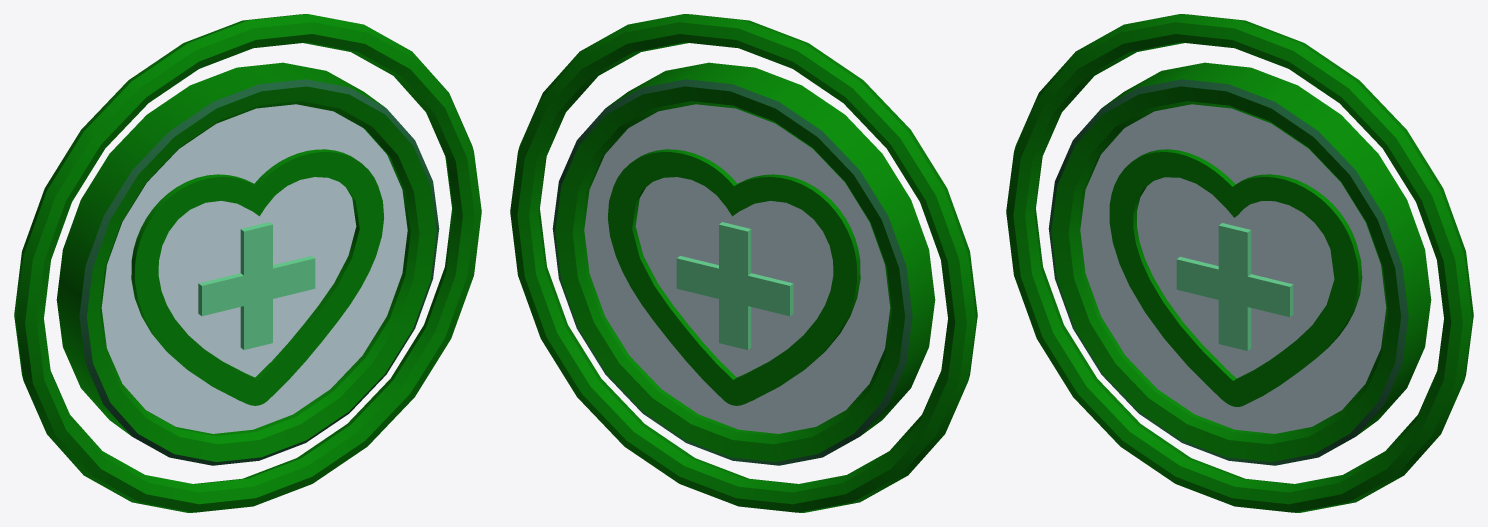
Rendered from TU_power_extraLife.fbx.
3 views of the same model, side by side, from view 1: azimuth 30°, elevation 25°; view 2: azimuth 150°, elevation 25°; view 3: azimuth 330°, elevation 25° (orthographic).
Visible parts, largest first — view 1: TU_power_extraLife; view 2: TU_power_extraLife; view 3: TU_power_extraLife.
Boxes of the visible parts, bbox=[...] form: TU_power_extraLife: bbox=[14, 14, 481, 512]; TU_power_extraLife: bbox=[510, 14, 977, 512]; TU_power_extraLife: bbox=[1006, 14, 1473, 512].
Size of the model in its own units: 227 by 227 by 23.31.
